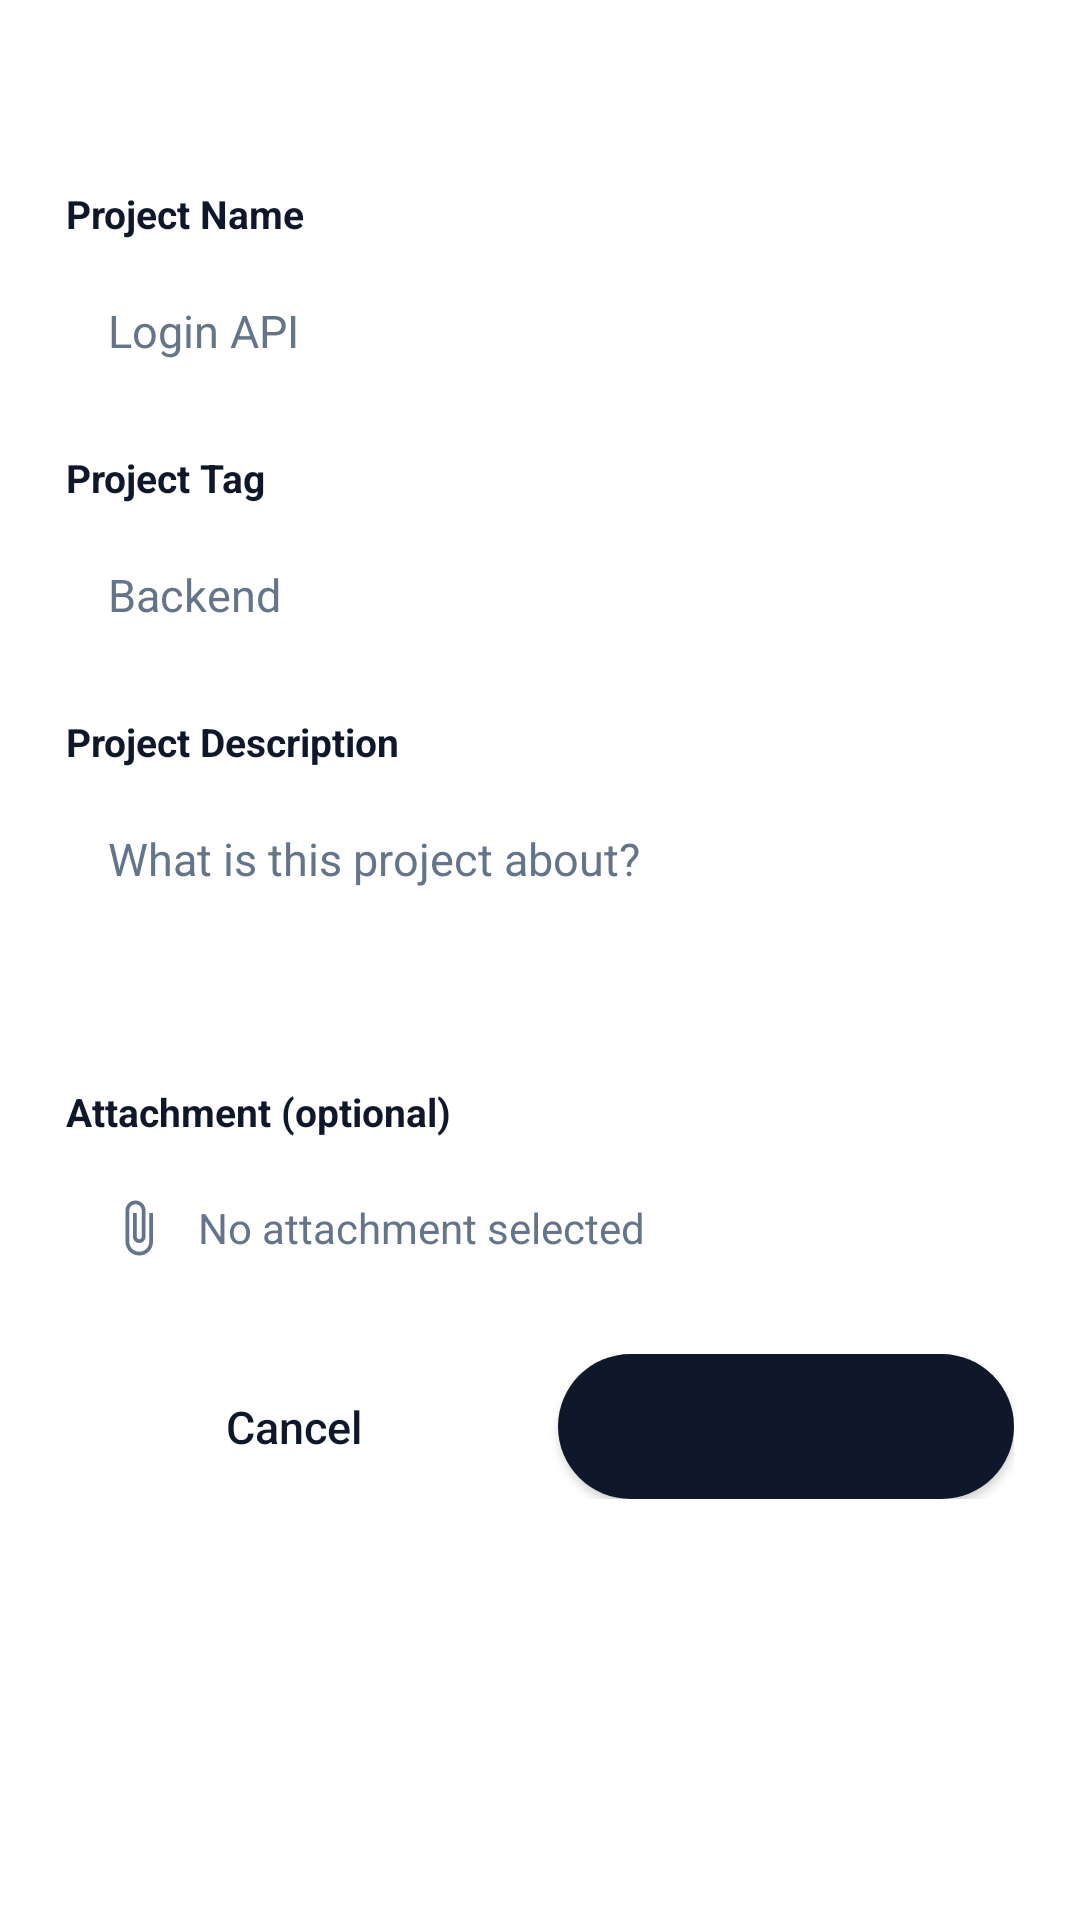

Named icons in this screenshot (1080px×1920px) and their bounding boxes, region(x1, y1, x2, y2):
clip: region(125, 1200, 153, 1256)
